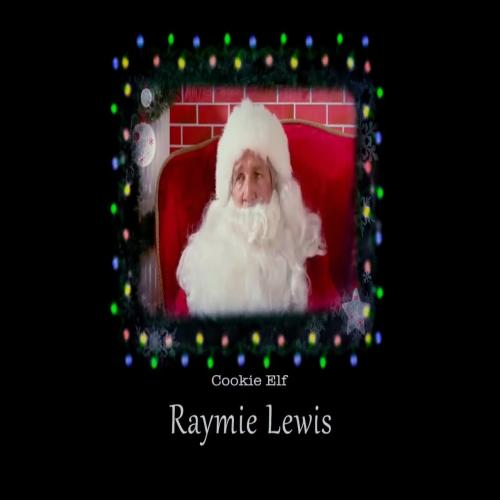Santa: (171, 96, 346, 316)
